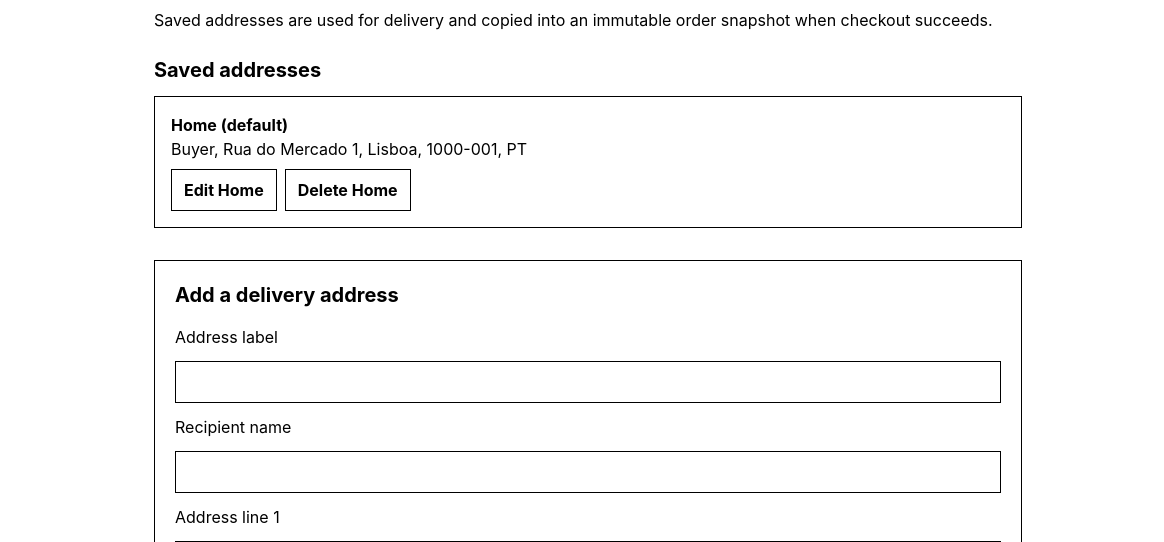
Test case: DeliveryAddresses › preserves editing state when update and deletion fail
Click the button "Edit Home": (224, 190) top-left (171, 169), bottom-right (277, 211)
(page scrolled)
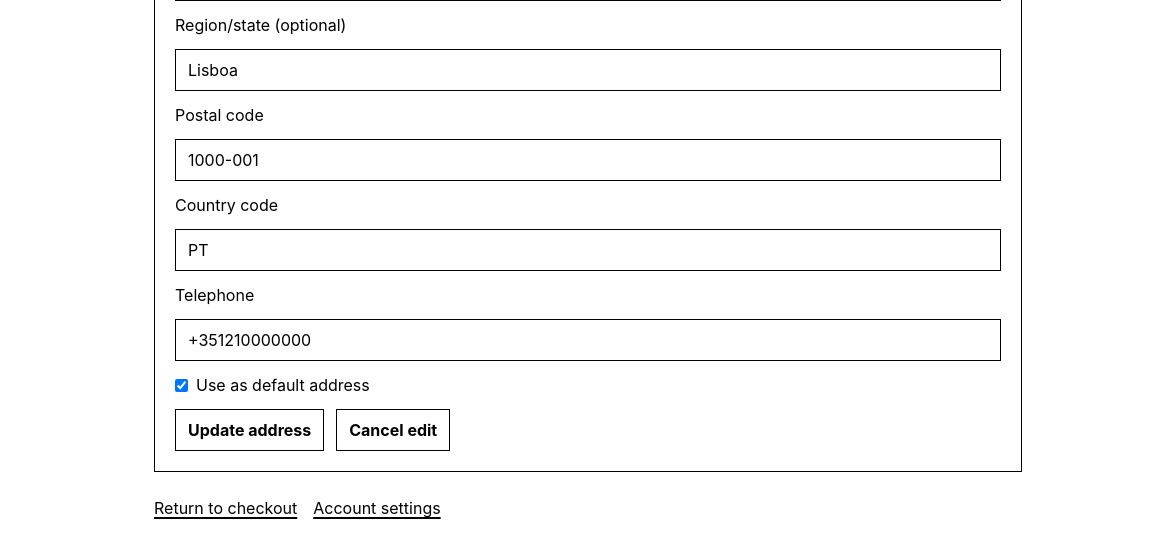
Click the button "Update address": (250, 430) top-left (175, 409), bottom-right (324, 451)
(page scrolled)
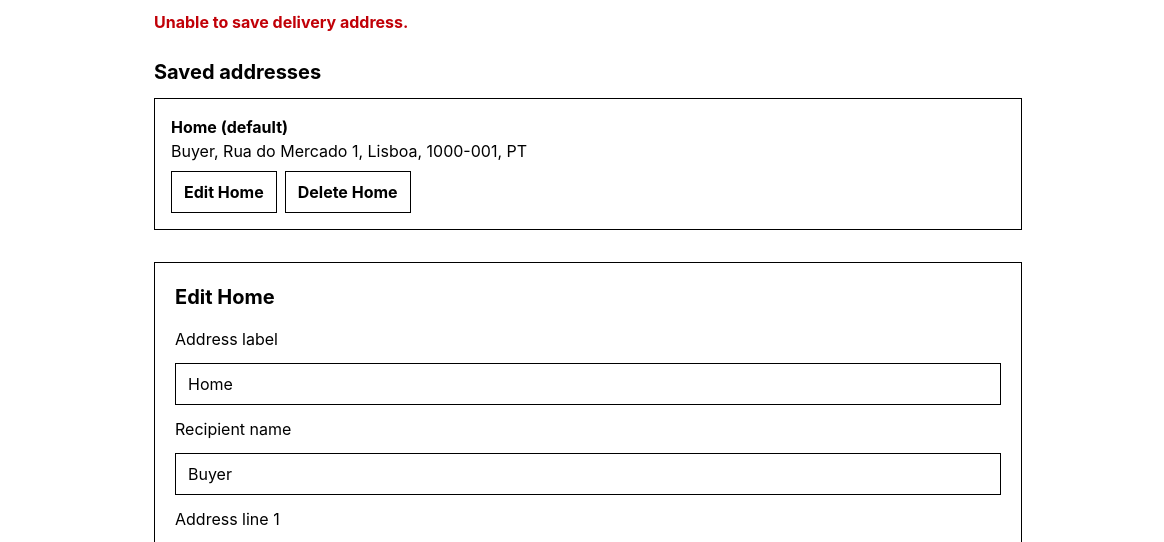
expect the heading "Edit Home" is shown: met, box top-left (175, 285), bottom-right (275, 309)
expect the message reads "Unable to save delivery address.": met, box top-left (154, 12), bottom-right (408, 32)
Click the button "Delete Home": (348, 192) top-left (285, 171), bottom-right (411, 213)
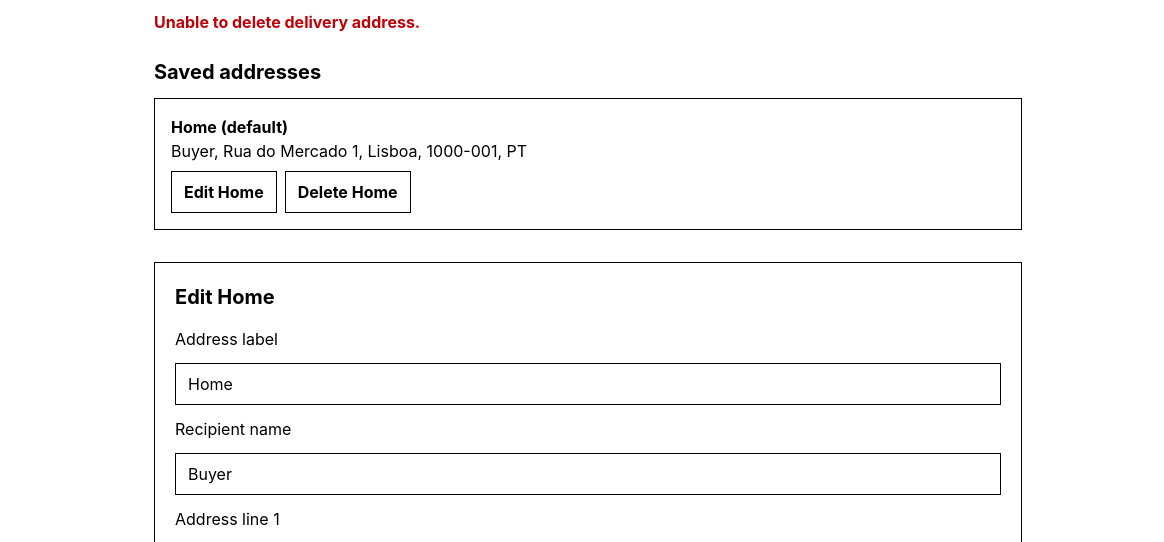
expect the message reads "Unable to delete delivery address.": met, box top-left (154, 12), bottom-right (420, 32)
